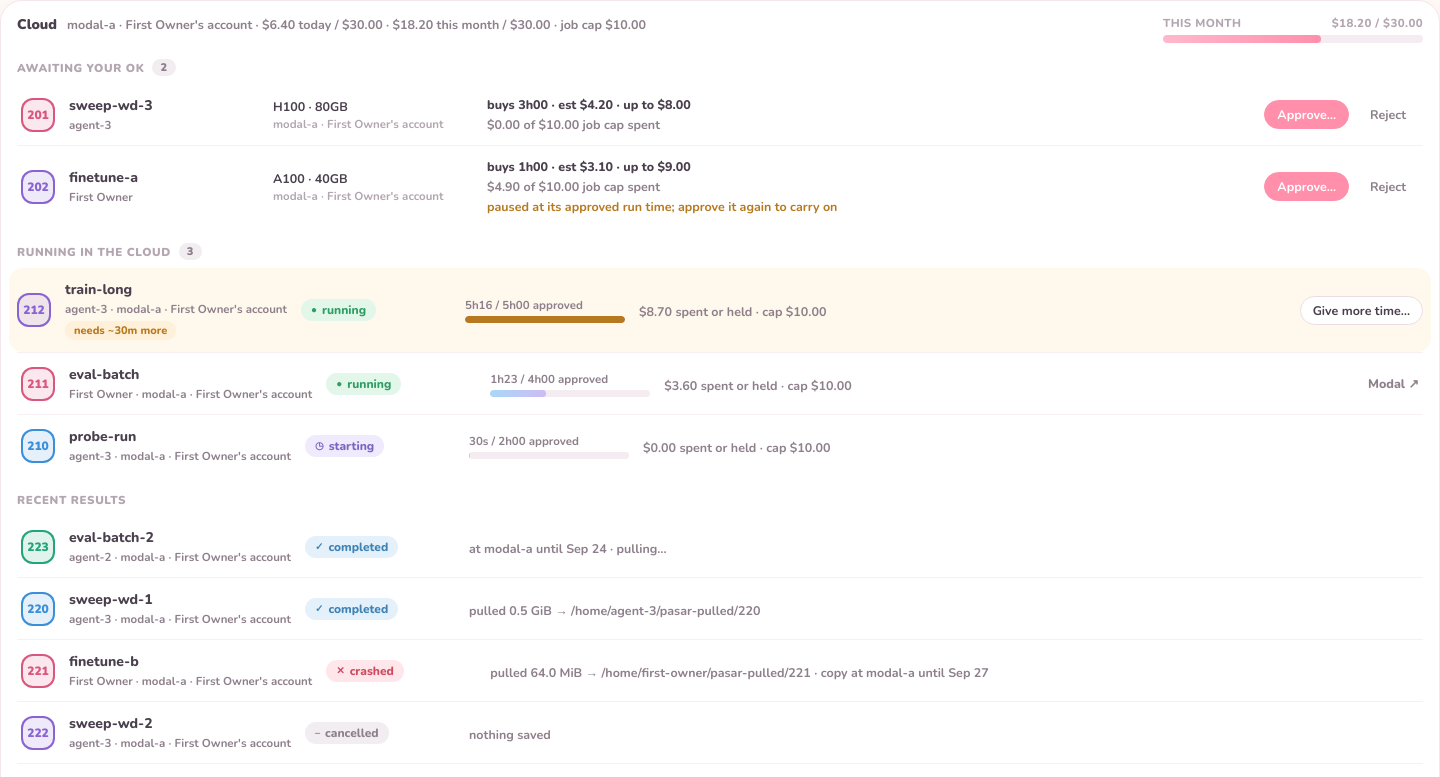
Test: CloudCard › Approve opens the dialog with the facts and the worst case on its button
Click the button "Approve…" in the row of "buys 1h00 · est $3.10 · up to $9.00": coordinates (1307, 186) [1264,172,1349,201]
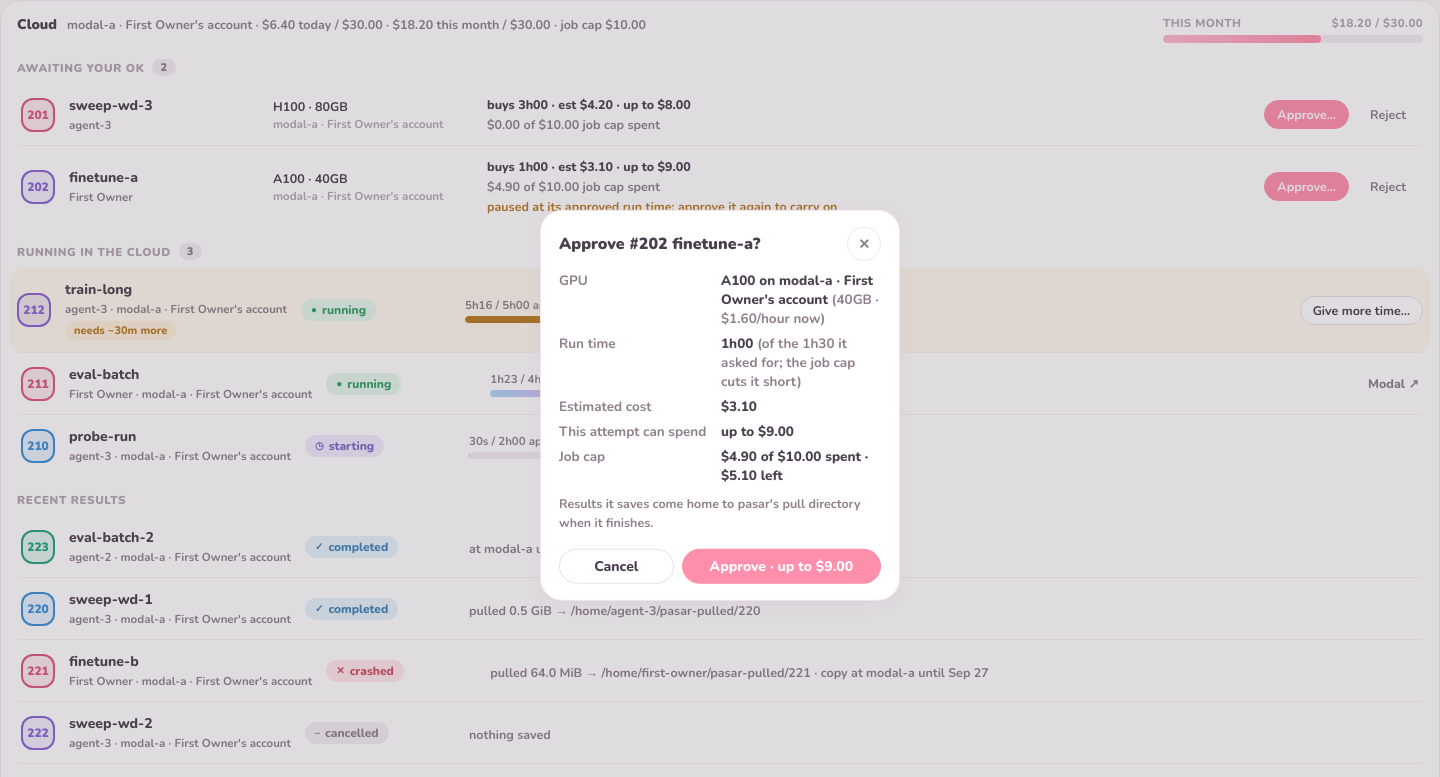
expect the dialog "Approve #202 finetune-a?" shows "A100 on modal-a · First Owner's account": met, box [721,271,873,309]
expect the dialog "Approve #202 finetune-a?" shows "40GB · $1.60/hour now": met, box [721,290,879,328]
expect the dialog "Approve #202 finetune-a?" shows "1h00": met, box [721,334,757,353]
